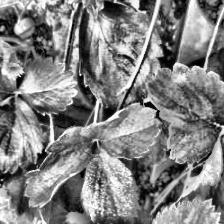Powdery Mildew Leaf: (145, 62, 224, 166), (24, 125, 94, 209), (80, 140, 141, 224), (79, 103, 163, 160), (173, 129, 224, 212)
